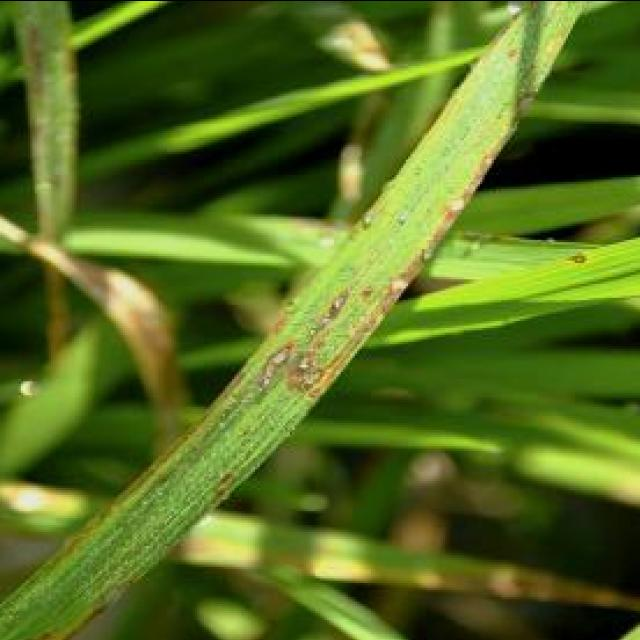Leaf_Blast: (243, 322, 310, 397), (306, 267, 357, 327), (287, 359, 341, 404)
